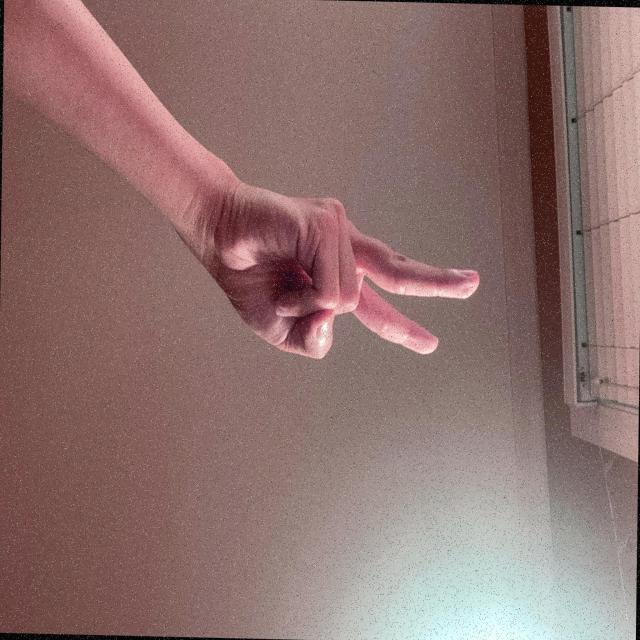V: (278, 201, 441, 619)
